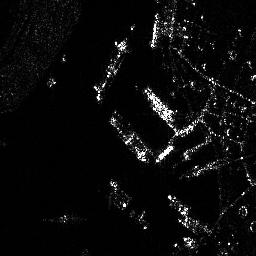ship: (95, 37, 128, 103), (110, 117, 149, 162), (144, 85, 176, 120), (149, 9, 160, 49), (154, 145, 174, 163)
